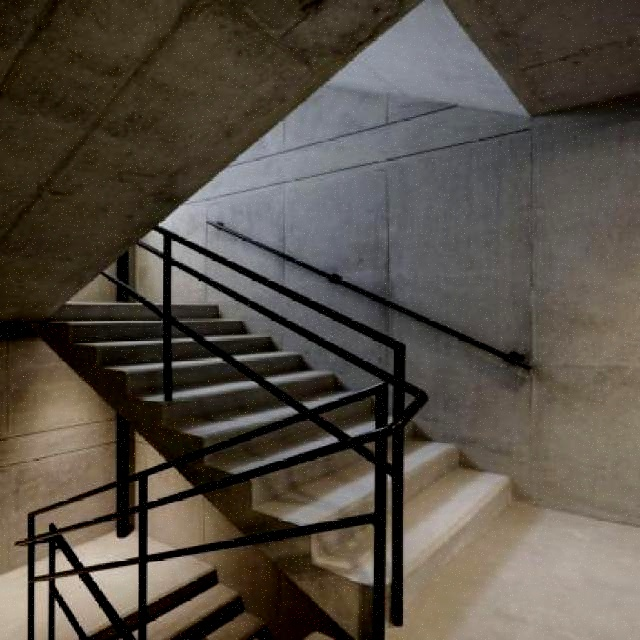stair: (10, 182, 581, 639)
